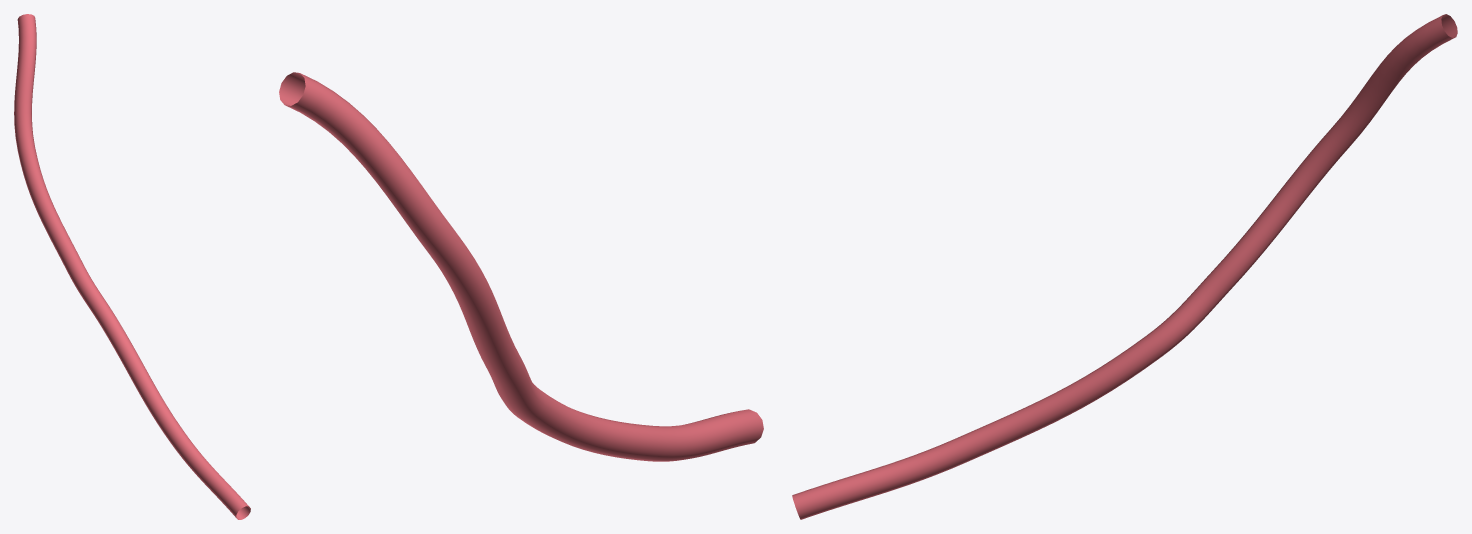
3 renders of one model, left to right at view 1: azimuth 30°, elevation 25°; view 2: azimuth 150°, elevation 25°; view 3: azimuth 270°, elevation 25°, orthographic. The views are drawn at different scales.
Visible parts, largest first — view 1: ZA_5b2f1d8374bdda1f; view 2: ZA_5b2f1d8374bdda1f; view 3: ZA_5b2f1d8374bdda1f.
Boxes of the visible parts, x1,y1,x2,y2 form: ZA_5b2f1d8374bdda1f: (14,14,250,519); ZA_5b2f1d8374bdda1f: (279,72,763,461); ZA_5b2f1d8374bdda1f: (792,14,1457,519).
Size of the model in its own units: 0.00486 by 0.0299 by 0.0356.
